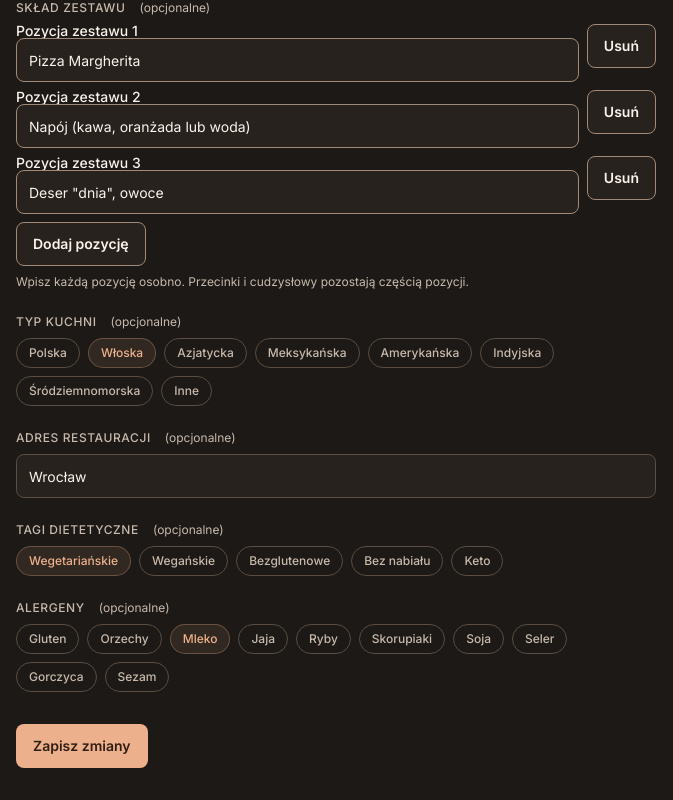
keeps the geocoding warning visible after a successful save
(page scrolled)
Click the button "Zapisz zmiany" at (82, 746), box left=16, top=724, right=148, bottom=768
(page scrolled)
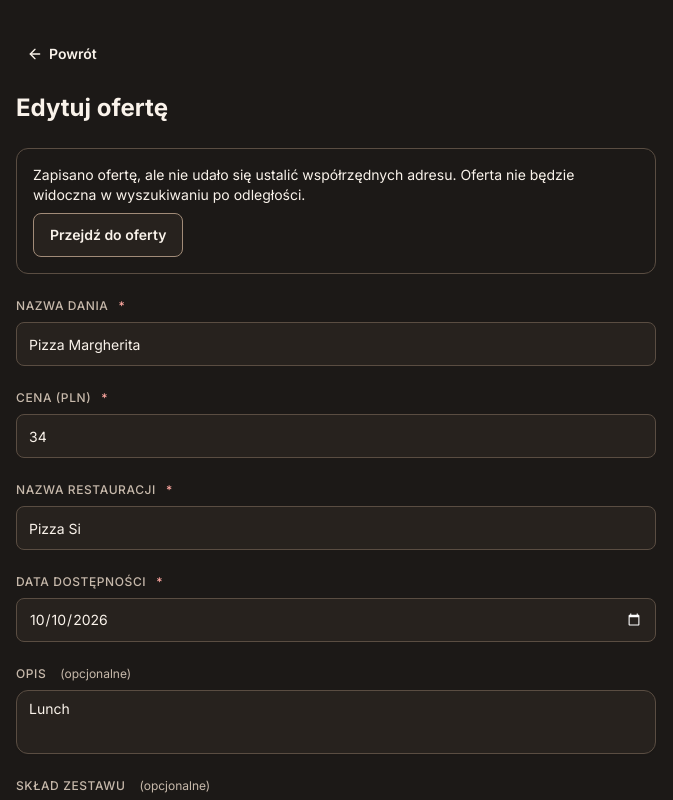
Expected: the message shows "nie udało się ustalić współrzędnych", left=33, top=166, right=574, bottom=203
Expected: the button "Przejdź do oferty" is shown, left=33, top=213, right=183, bottom=257
